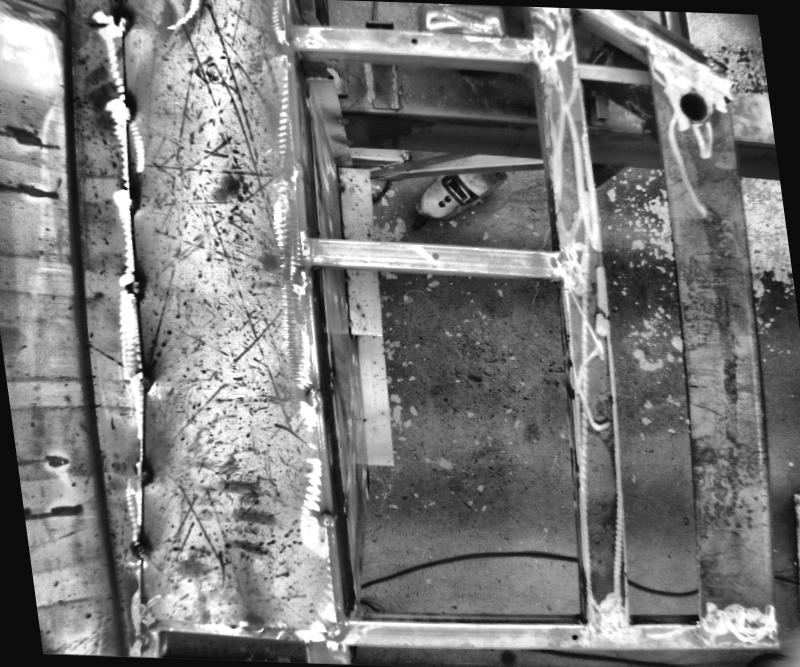hole: (674, 87, 714, 123), (431, 251, 440, 259), (410, 36, 419, 43), (570, 634, 578, 641)
